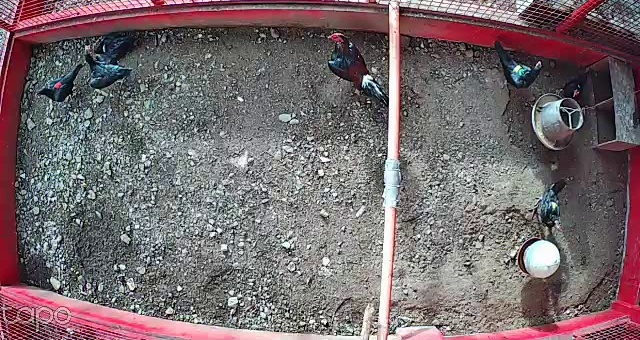Chicken: (483, 33, 547, 94), (524, 174, 574, 233), (30, 59, 93, 102), (78, 47, 131, 88), (548, 67, 601, 105), (92, 31, 139, 61)
Rooster: (320, 24, 387, 109)
Saddle_Color_Red: (55, 80, 64, 88)
Saddle_Color_Yellow: (550, 200, 557, 211)
Saddle_Color_YellowGreen: (512, 63, 527, 79)
